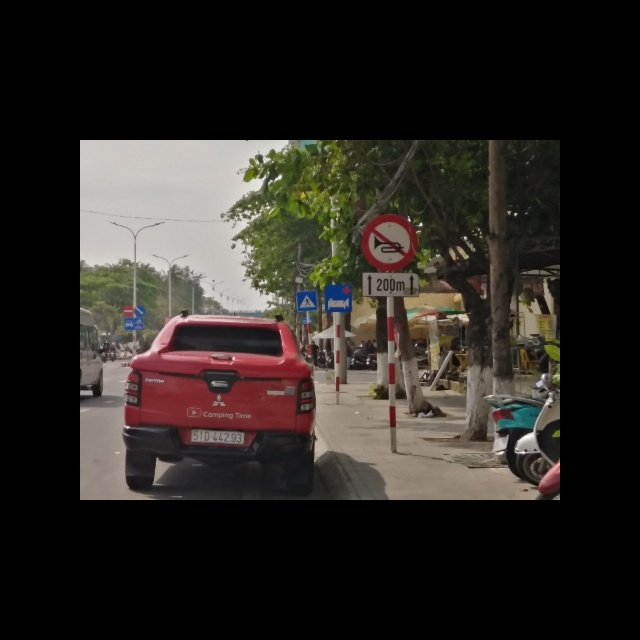Bệnh viện: (324, 283, 352, 312)
Cấm bấm còi: (361, 214, 418, 272)
Đường dành cho người đi bộ: (295, 290, 318, 311)
